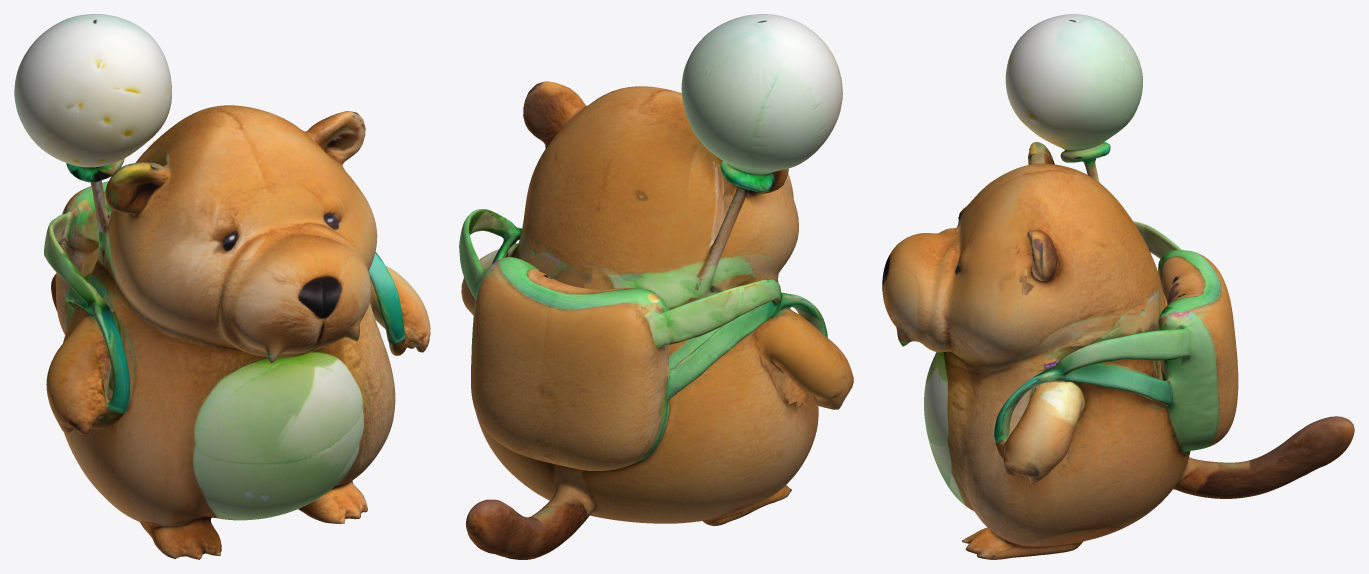
Rendered from A_soft_chubby_capyba_1107051741_refine.fbx.
The picture shows the model from 3 angles, left to right: view 1: azimuth 30°, elevation 25°; view 2: azimuth 150°, elevation 25°; view 3: azimuth 270°, elevation 25°; orthographic projection. The views are drawn at different scales.
Visible parts, largest first — view 1: Mesh1_Mesh1.015; view 2: Mesh1_Mesh1.015; view 3: Mesh1_Mesh1.015.
Boxes of the visible parts, box(x1,y1,x2,y2) form: Mesh1_Mesh1.015: box(14, 14, 430, 559); Mesh1_Mesh1.015: box(459, 14, 853, 559); Mesh1_Mesh1.015: box(882, 14, 1354, 559).
Bounding box in the file's own units: 155 × 200 × 192.
Materials: 1 (1 with a texture image).
